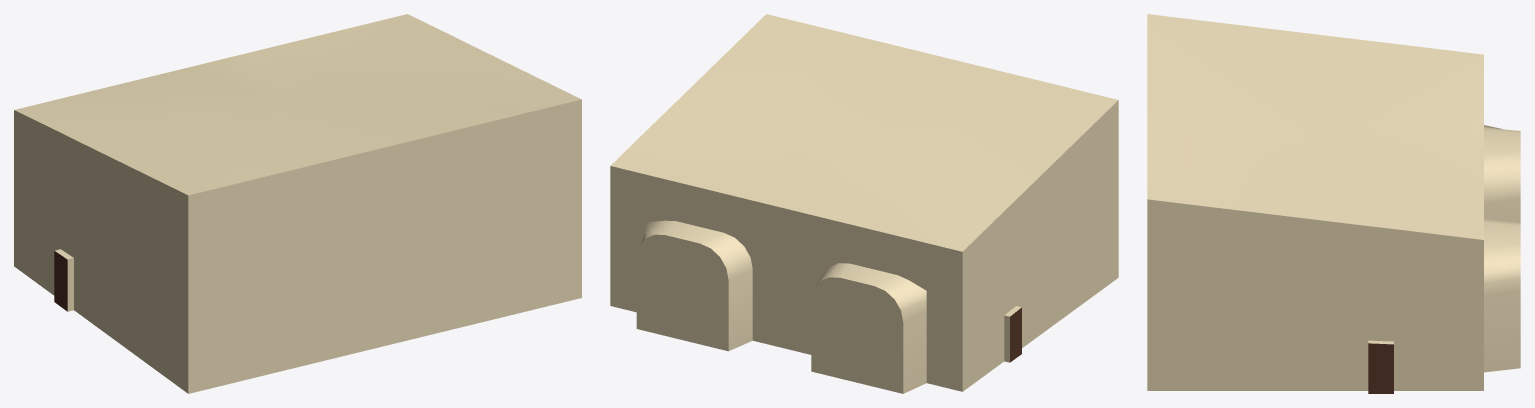
The model's file is Sala_paneles_a-c.fbx.
3 views of the same model, side by side, from view 1: azimuth 30°, elevation 25°; view 2: azimuth 150°, elevation 25°; view 3: azimuth 270°, elevation 25° (orthographic). The views are drawn at different scales.
Parts seen in each view (by area): view 1: Sala_paneles_a-c; view 2: Sala_paneles_a-c; view 3: Sala_paneles_a-c.
Boxes of the visible parts, <box> form: Sala_paneles_a-c: <box>14,14,581,393</box>; Sala_paneles_a-c: <box>610,14,1118,393</box>; Sala_paneles_a-c: <box>1147,14,1520,393</box>.
Bounding box in the file's own units: 2015 × 941 × 1661.
